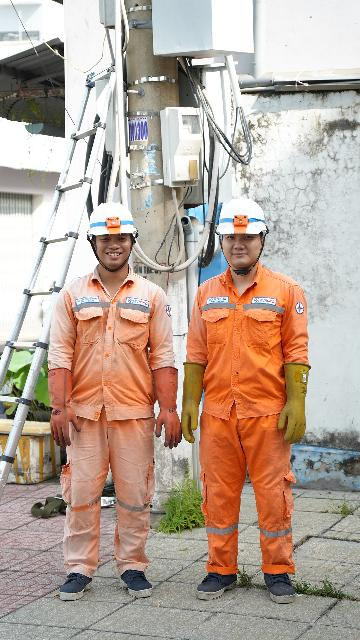gloves: (38, 353, 89, 452), (274, 363, 328, 441), (152, 360, 183, 452), (183, 356, 211, 448)
helmet: (77, 193, 145, 239), (208, 190, 274, 237)
shoes: (187, 568, 248, 603), (257, 565, 306, 608), (52, 561, 93, 602), (121, 563, 158, 602)
